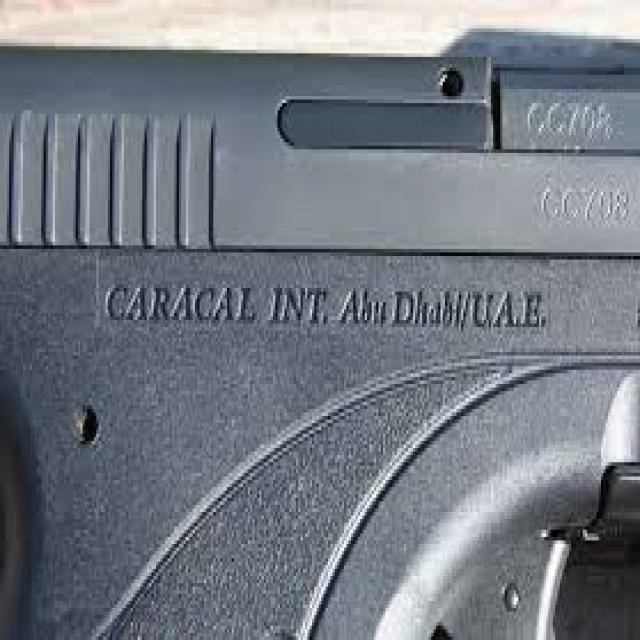Gun: (0, 14, 640, 640)
